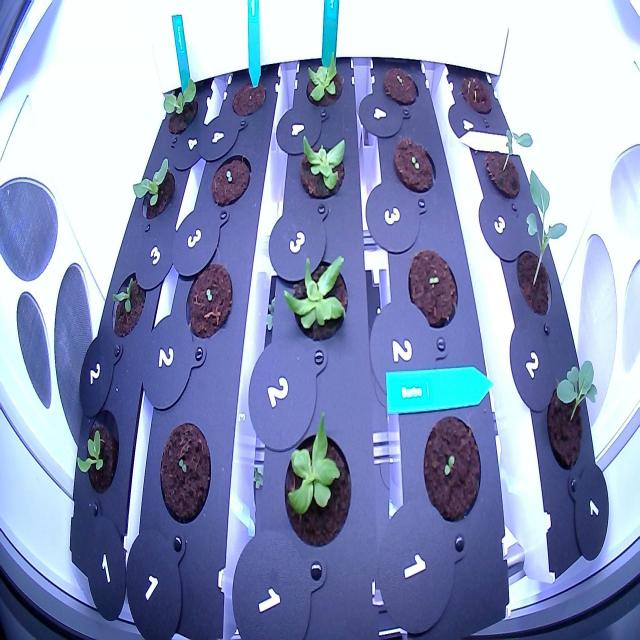germination: (416, 408, 486, 534), (152, 406, 214, 528), (404, 244, 462, 332), (181, 256, 236, 348), (208, 143, 257, 216), (390, 132, 438, 200), (458, 68, 497, 122)
pod: (376, 58, 426, 110), (229, 66, 269, 125)
young: (277, 400, 357, 555), (274, 244, 352, 347), (70, 402, 125, 504), (293, 125, 352, 208), (130, 148, 180, 229), (160, 69, 207, 148), (106, 260, 148, 346), (301, 46, 346, 114)
